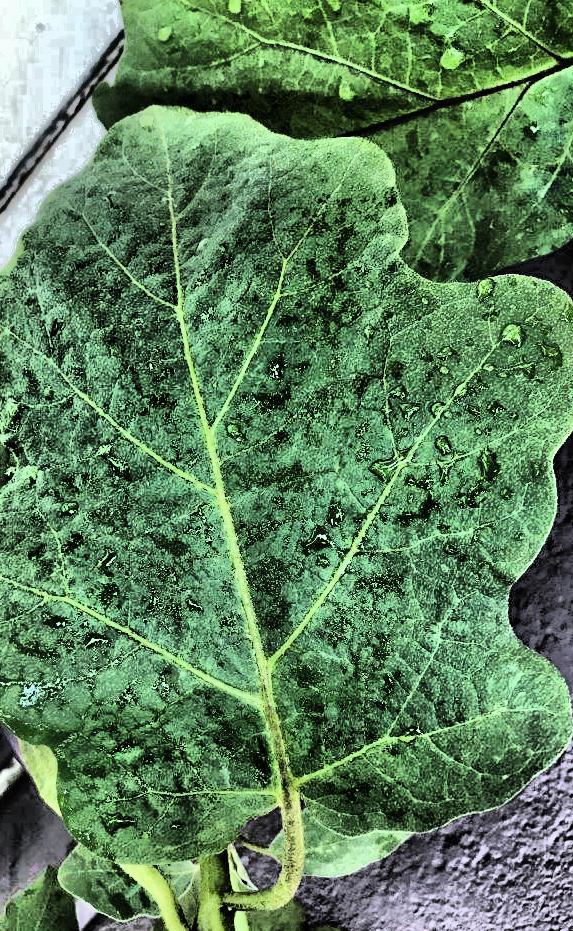HEALTHY: (40, 0, 573, 698)
